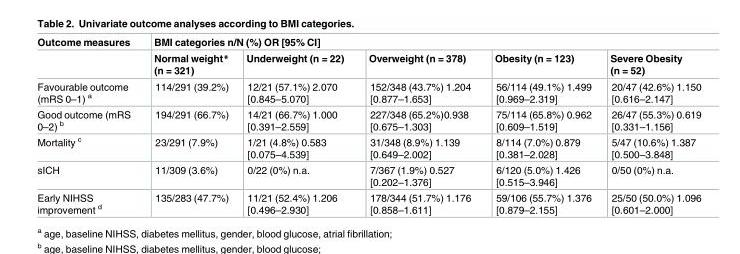table: (36, 37, 700, 215)
table column: (355, 37, 482, 215), (236, 37, 355, 215), (482, 37, 600, 215), (36, 37, 141, 215), (600, 37, 700, 215), (141, 37, 236, 215)
table column header: (36, 37, 700, 78)
table row: (36, 49, 700, 78), (36, 133, 700, 162), (36, 78, 700, 106), (36, 162, 700, 190), (36, 106, 700, 133), (36, 190, 700, 215), (36, 37, 700, 49)
table spanning cell: (141, 37, 700, 49), (36, 37, 141, 78)
